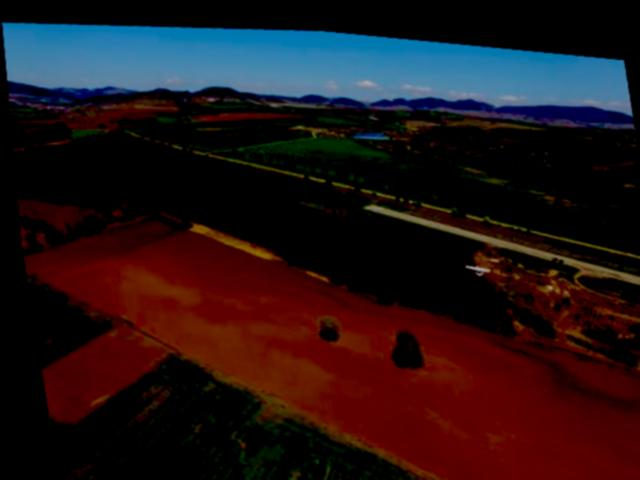uav: (454, 247, 490, 271)
